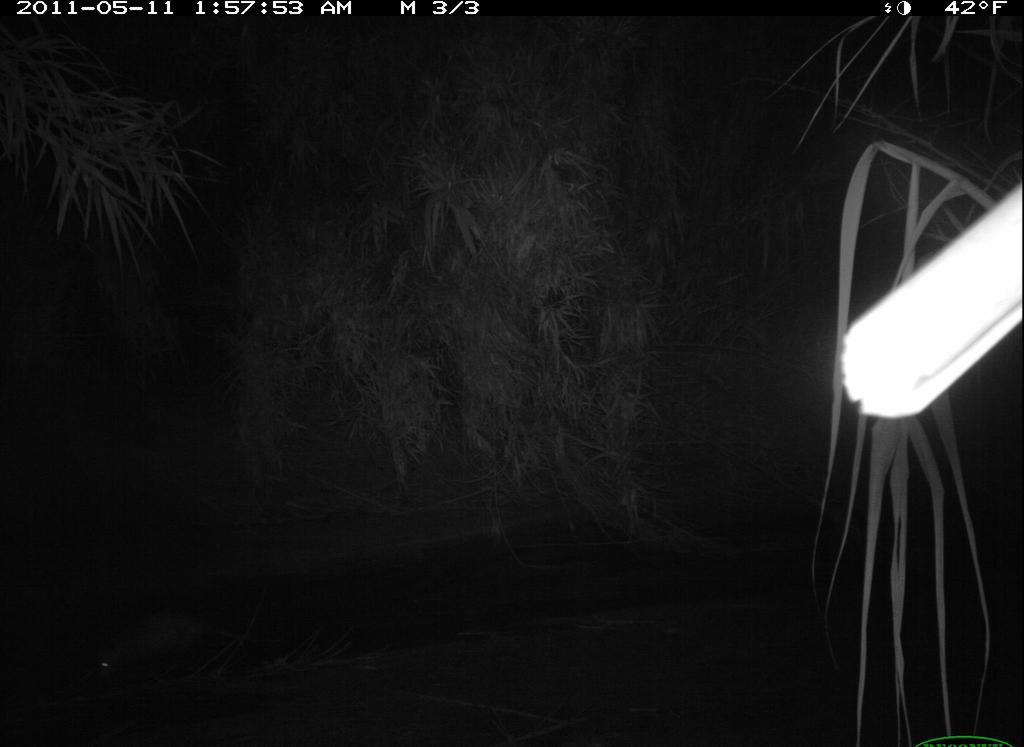opossum: (65, 594, 260, 699)
